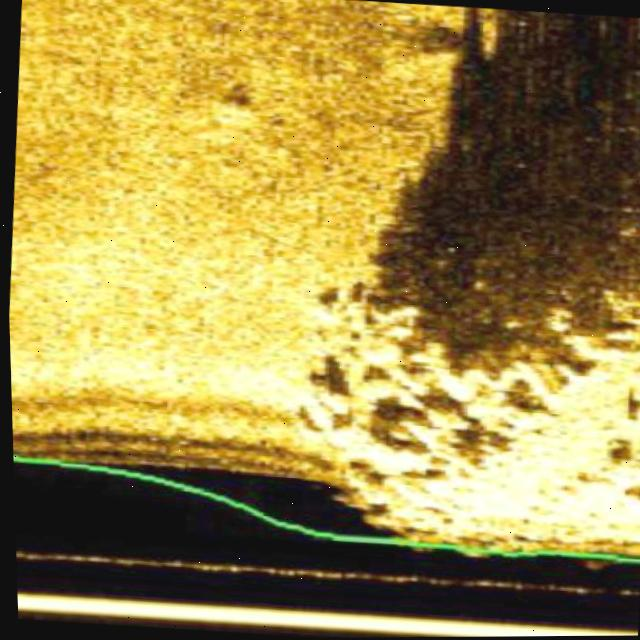bedrock group: (278, 240, 640, 560)
